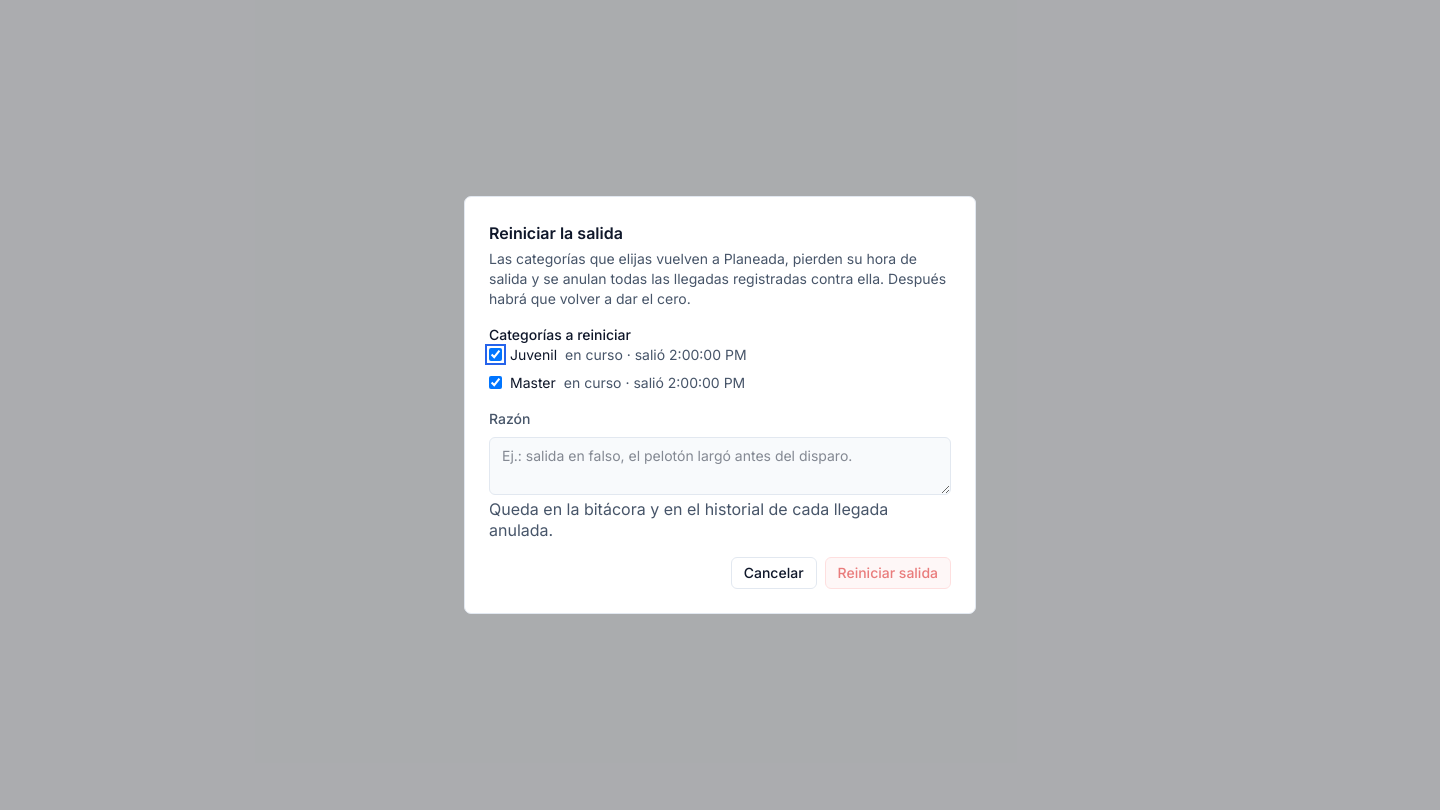
RestartRaceDialog — el alcance elegido decide el endpoint › sin ninguna categoría marcada el botón queda deshabilitado
This screenshot has width=1440, height=810.
Type "Salida en falso" into the text box labelled "Razón" at x=720, y=466, box [489, 437, 951, 495]
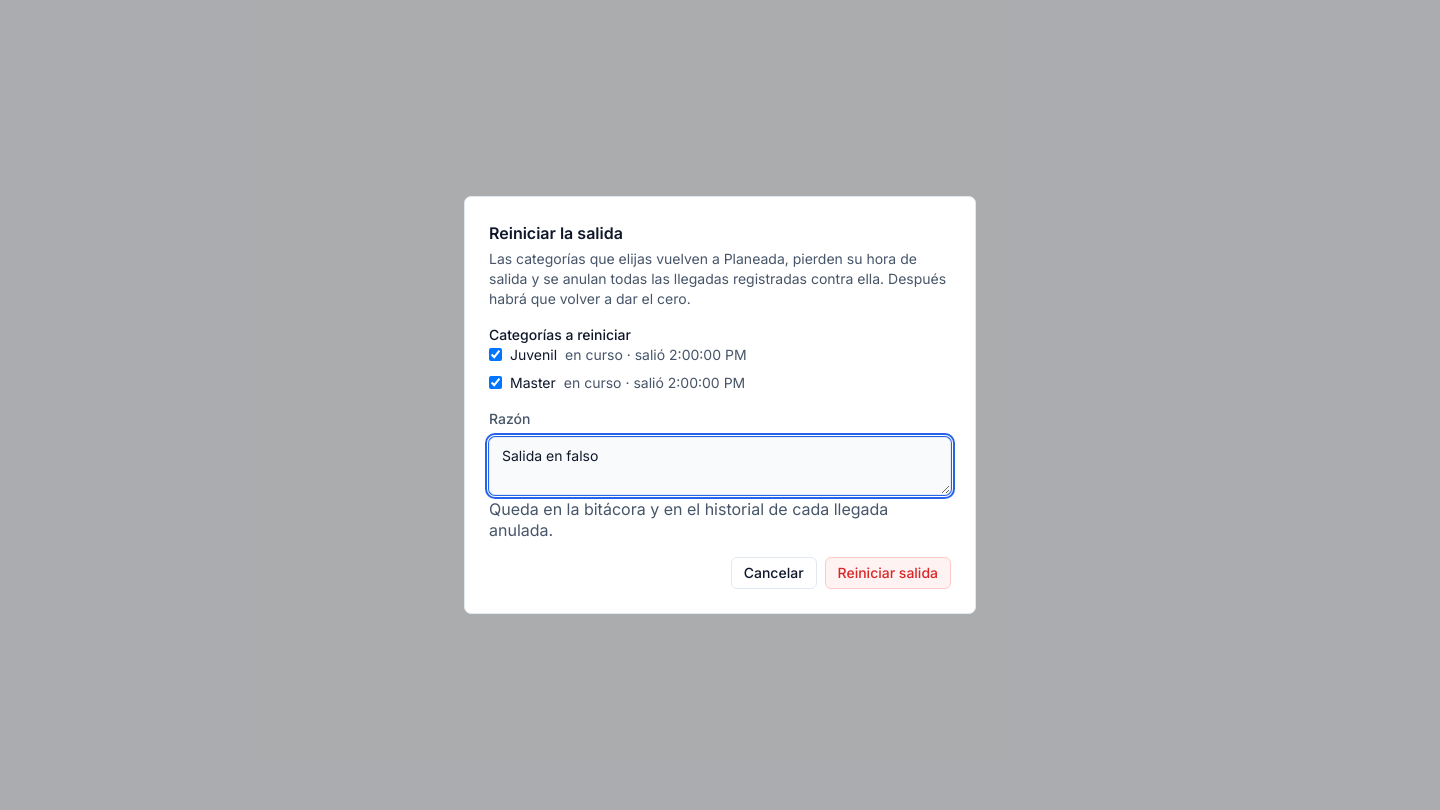
Click the checkbox labelled "Juvenil en curso · salió 2:00:00 PM" at x=496, y=355, box [489, 348, 502, 361]
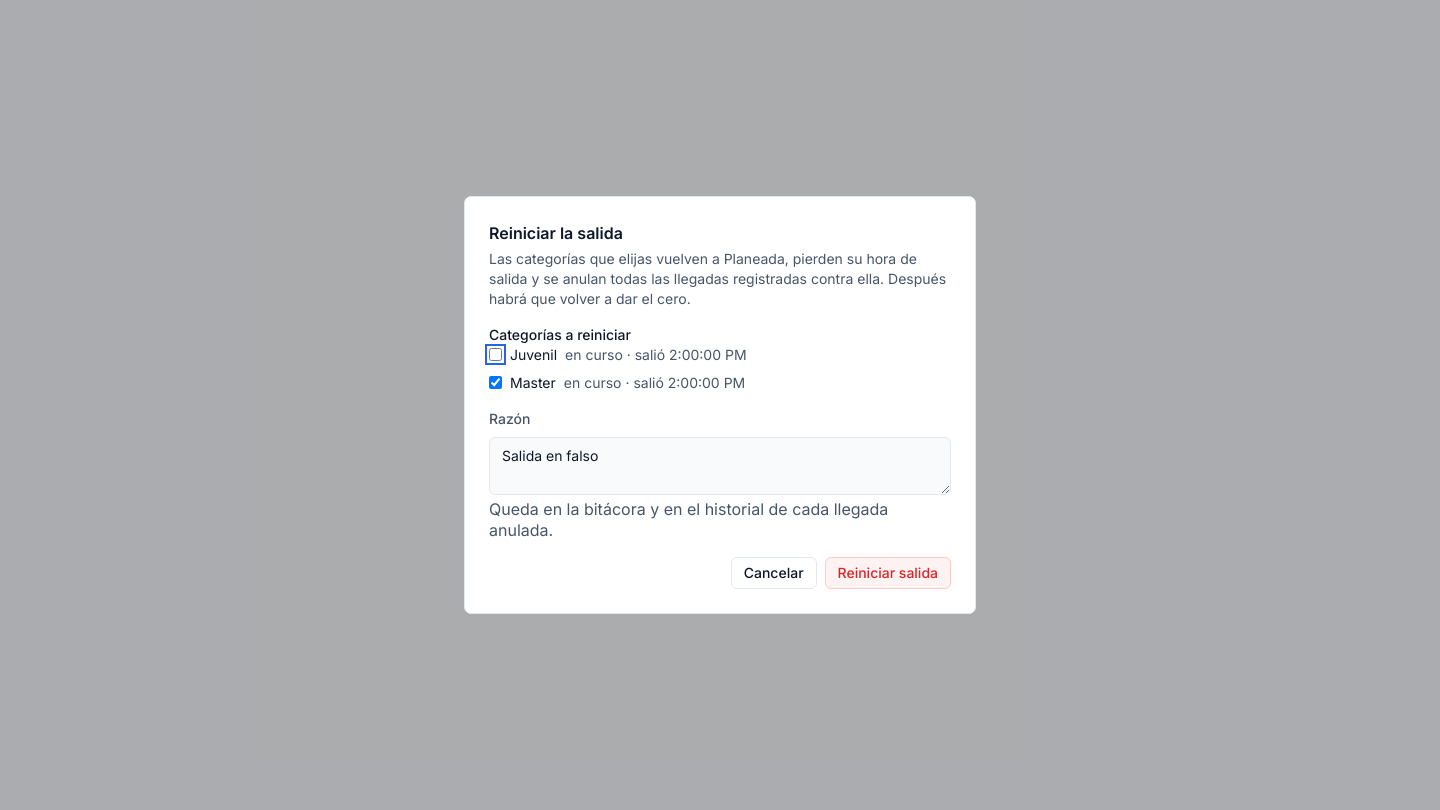
Click the checkbox labelled "Master en curso · salió 2:00:00 PM" at x=496, y=383, box [489, 376, 502, 389]
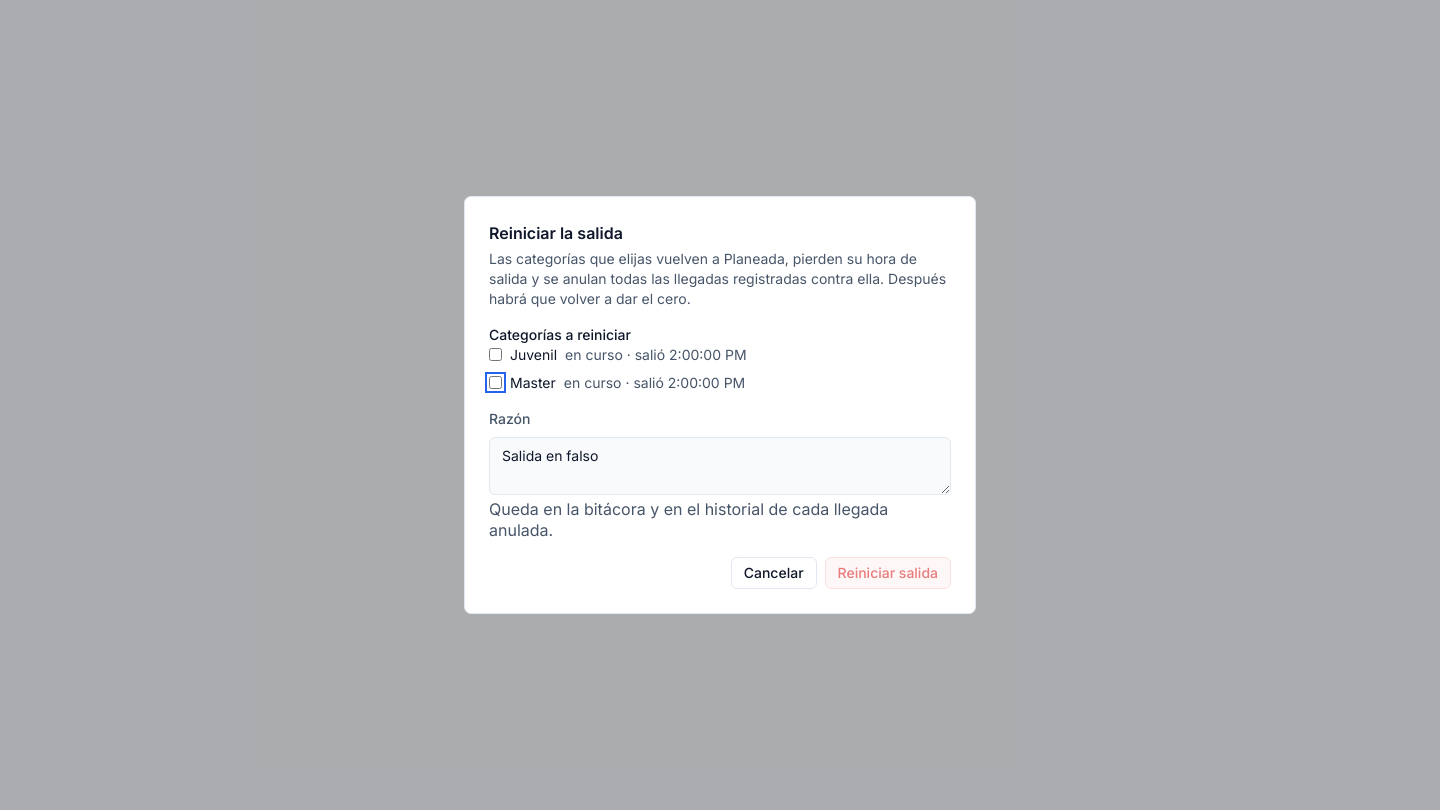
Result: the button "Reiniciar salida" is disabled at [825, 557, 951, 589]
